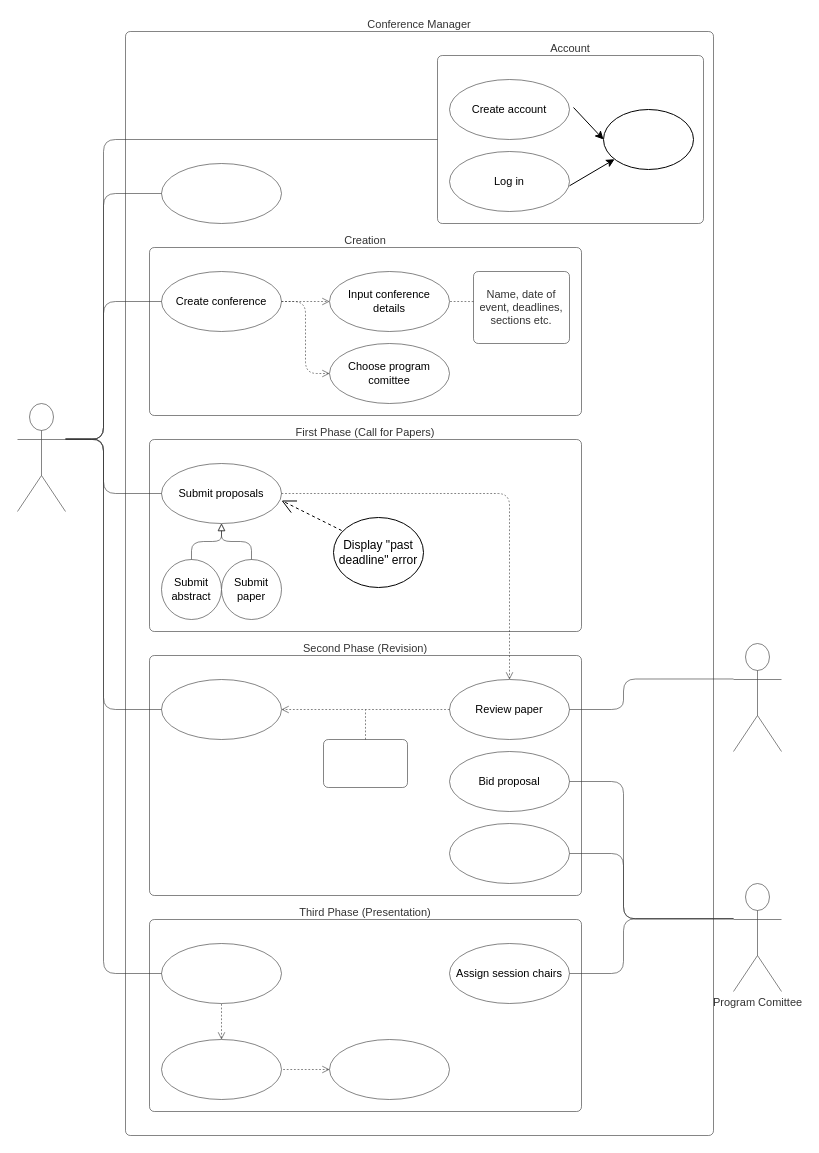
Image size: 819x1153. Some labels were removed from this diagram. Each missing label, with the centre of its shape:
Assign reviewers: (x=509, y=853)
Choose sections to participate in: (x=389, y=1069)
Improve paper: (x=221, y=709)
Only if paper is accepted: (x=365, y=763)
Pay: (x=221, y=1069)
Register: (x=221, y=973)
Reviewer: (x=757, y=697)
Search for conferences: (x=221, y=193)
User: (x=41, y=457)
Verify e-mail and password: (x=648, y=139)
